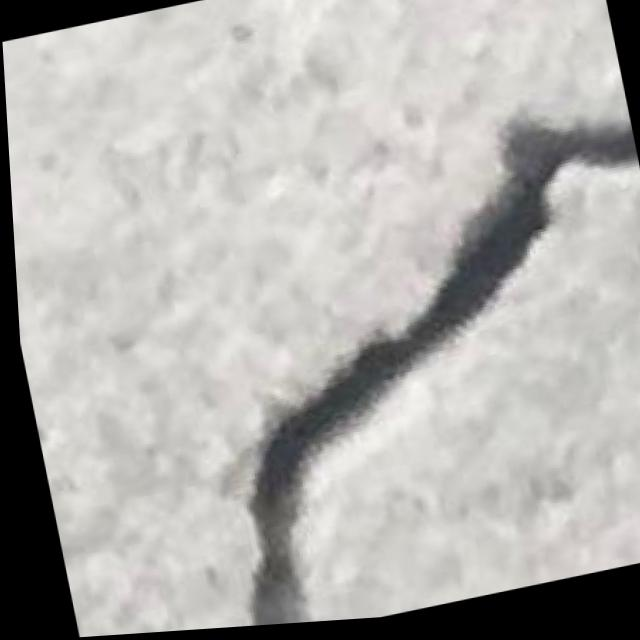Crack: (153, 92, 640, 632)
